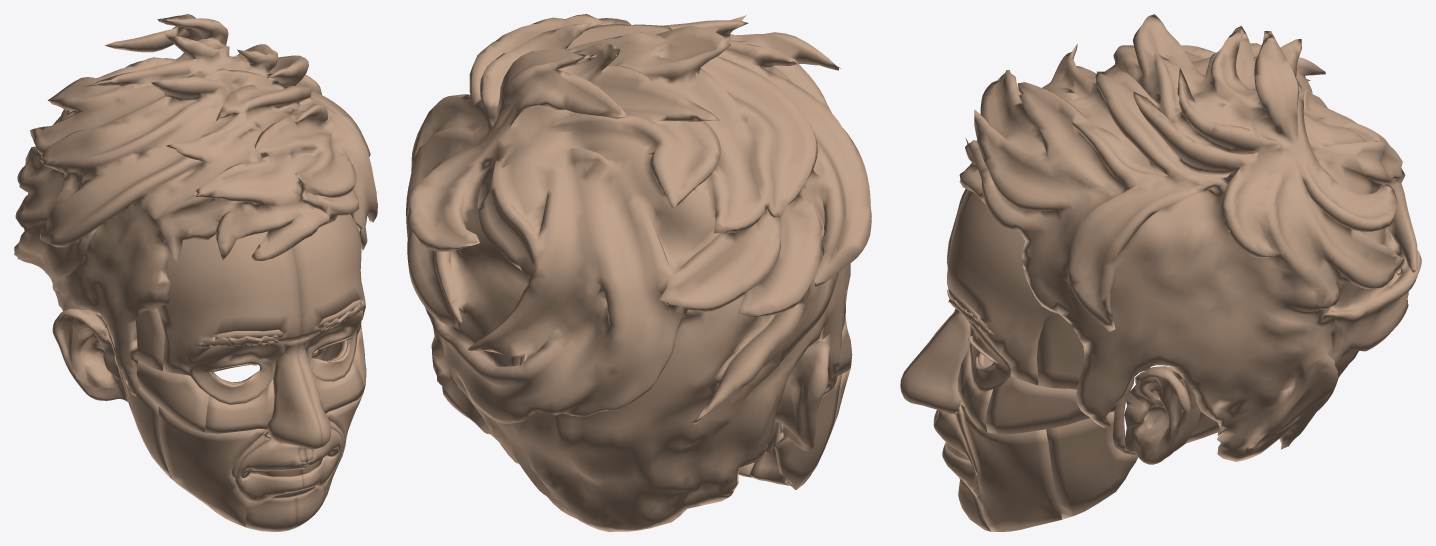
Rendered from detail-integumentary-head.glb.
The picture shows the model from 3 angles, left to right: view 1: azimuth 30°, elevation 25°; view 2: azimuth 150°, elevation 25°; view 3: azimuth 270°, elevation 25°; orthographic projection. The views are drawn at different scales.
Parts seen in each view (by area): view 1: za-1c8d9ad40a2e3bc9, za-341352dc1ed7c2b5, za-edb60285f5377f84, za-4dee23a0fae77804, za-142b4e62b83659b8, za-9993caeb80cd36b4, za-19458f642031b87d, za-1336d75d13054ba6, za-e45ceef5a07cd5b6, za-2a8eb040ea4344ef, za-b1ed1b984ab6ebe7, za-fcfa0e0ec0512a0a (+12 smaller); view 2: za-1c8d9ad40a2e3bc9, za-b1ed1b984ab6ebe7, za-777e7b839b393488, za-fcfa0e0ec0512a0a, za-04591fa2d2d1463c, za-b867b4fb5e88fb76, za-65fe418f4262ce1a; view 3: za-1c8d9ad40a2e3bc9, za-4dee23a0fae77804, za-12bbac2b8decd31b, za-bd2ccb51ede9fca7, za-3437094836eb56ee, za-2e82f3a5451f4eb6, za-f68afb7f63dd1b58, za-c3a1d8bc24bc9b65, za-2a8eb040ea4344ef, za-ec7b1f2c5c77015f, za-ea5982d96305ad15, za-415aaea507524af9 (+2 smaller).
Boxes of the visible parts, x1,y1,x2,y2 form: za-1c8d9ad40a2e3bc9: (14,14,377,396); za-341352dc1ed7c2b5: (156,233,300,375); za-edb60285f5377f84: (158,406,267,527); za-4dee23a0fae77804: (291,214,365,339); za-142b4e62b83659b8: (267,340,321,449); za-9993caeb80cd36b4: (189,341,284,404); za-19458f642031b87d: (136,361,209,432); za-1336d75d13054ba6: (235,440,306,502); za-e45ceef5a07cd5b6: (205,379,274,433); za-2a8eb040ea4344ef: (305,310,363,381); za-b1ed1b984ab6ebe7: (121,373,174,481); za-fcfa0e0ec0512a0a: (245,496,296,531); za-1c8d9ad40a2e3bc9: (406,14,871,531); za-b1ed1b984ab6ebe7: (774,374,842,489); za-777e7b839b393488: (799,341,828,445); za-fcfa0e0ec0512a0a: (749,423,789,485); za-04591fa2d2d1463c: (792,343,819,427); za-b867b4fb5e88fb76: (774,376,804,444); za-65fe418f4262ce1a: (789,371,803,435); za-1c8d9ad40a2e3bc9: (959,14,1421,461); za-4dee23a0fae77804: (947,190,1051,385); za-12bbac2b8decd31b: (961,405,1061,531); za-bd2ccb51ede9fca7: (1046,411,1138,519); za-3437094836eb56ee: (900,308,970,414); za-2e82f3a5451f4eb6: (985,376,1117,434); za-f68afb7f63dd1b58: (1036,311,1083,389); za-c3a1d8bc24bc9b65: (934,410,978,497); za-2a8eb040ea4344ef: (964,316,1011,391); za-ec7b1f2c5c77015f: (1113,361,1200,455); za-ea5982d96305ad15: (957,347,993,431); za-415aaea507524af9: (1134,368,1190,455).
Size of the model in its own units: 0.1963 by 0.2556 by 0.2483.
